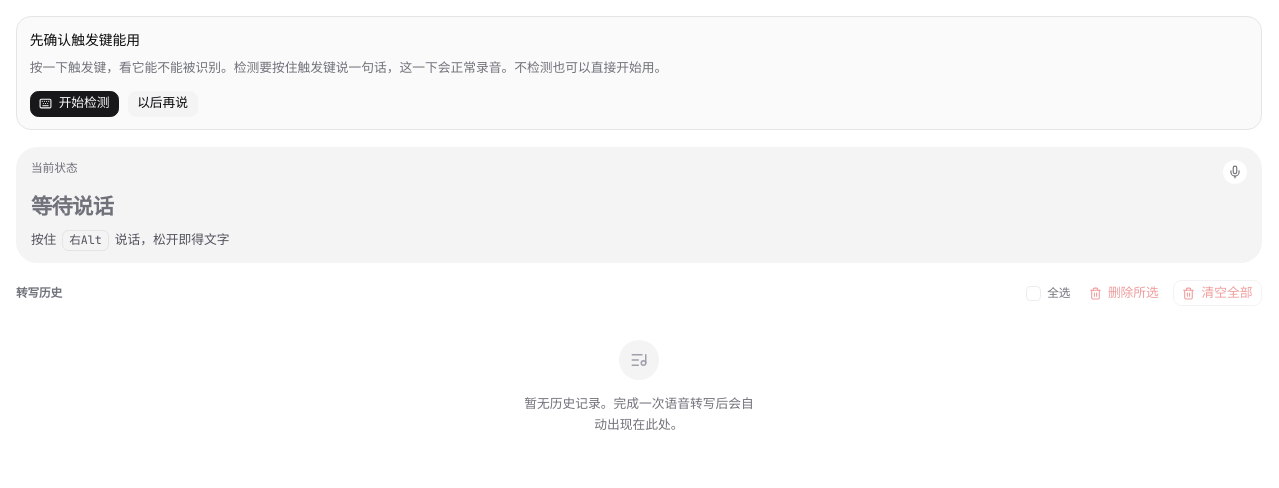
Home 触发键自检卡 › 键不一致时给出两边键名与诊断键码
The image size is (1279, 488).
Click the button "开始检测".
click(74, 104)  # box [30, 91, 119, 117]
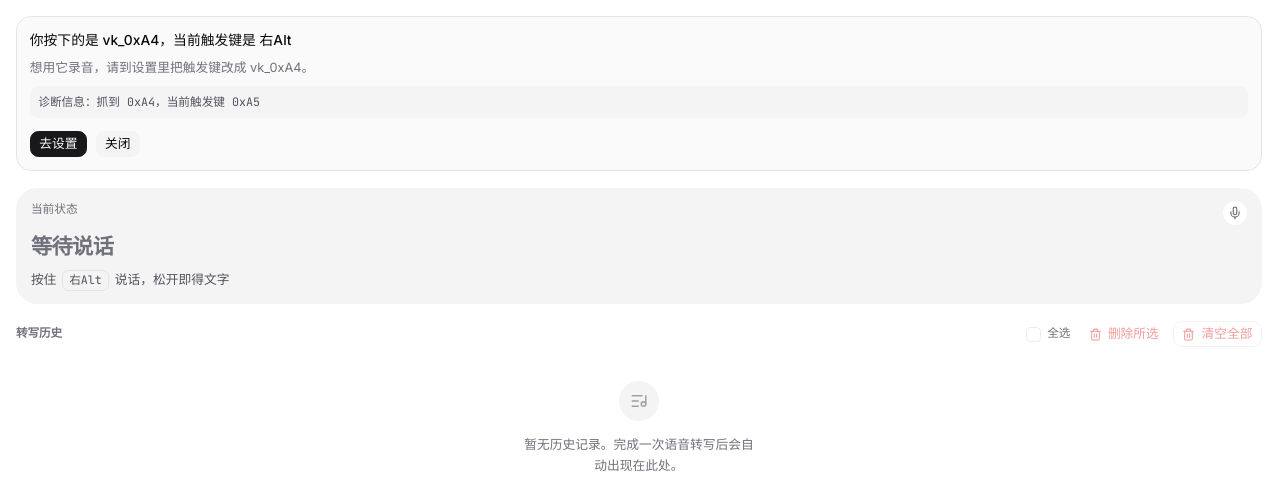
Now the text "你按下的是 vk_0xA4，当前触发键是 右Alt" is shown, box [30, 30, 292, 50]
Now the text "诊断信息：抓到 0xA4，当前触发键 0xA5" is shown, box [30, 86, 1248, 118]
Now the button "去设置" is shown, box [30, 131, 87, 157]
